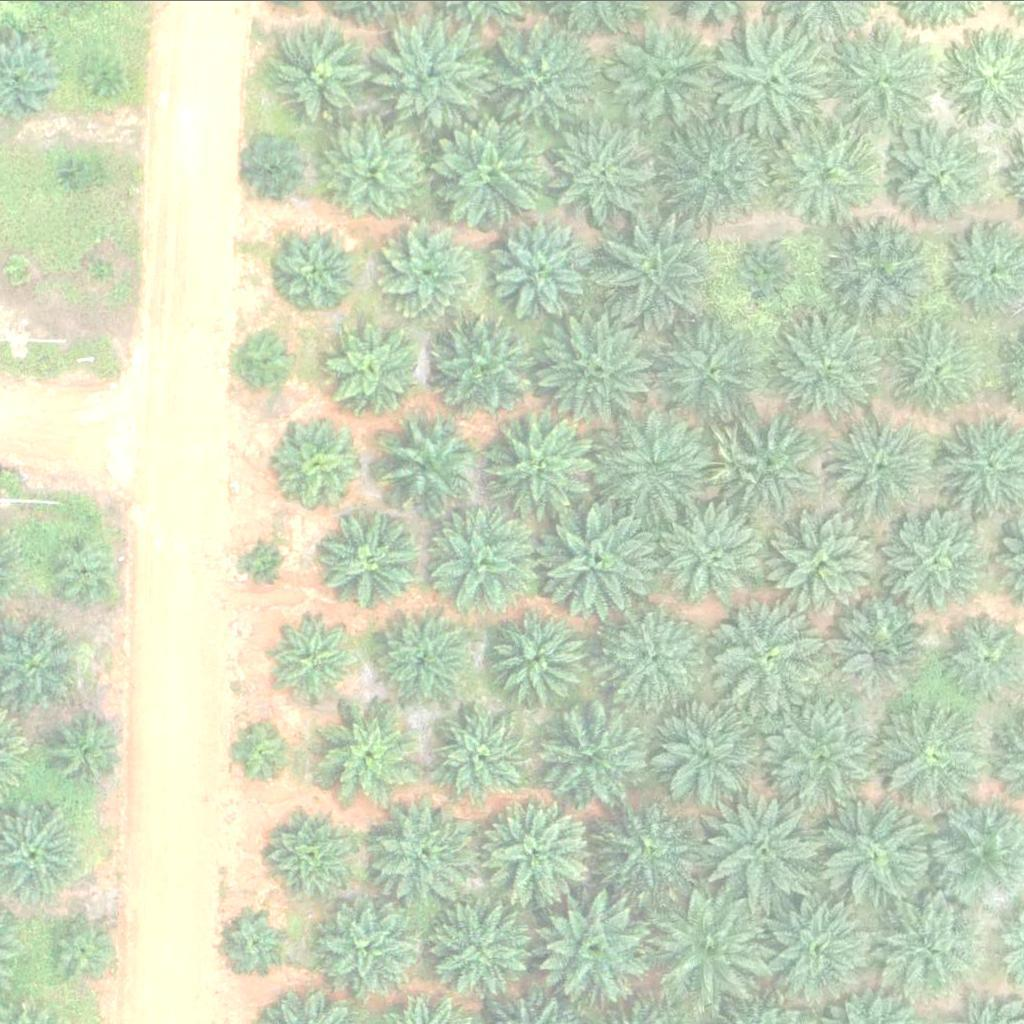Kelapa_Sawit: (534, 882, 660, 1007), (652, 884, 778, 1009), (700, 787, 826, 912), (538, 499, 664, 624), (595, 406, 721, 531), (537, 310, 663, 435), (596, 205, 722, 330), (427, 104, 553, 229), (656, 108, 782, 233), (476, 21, 602, 146), (707, 11, 833, 136), (821, 15, 947, 140), (814, 791, 940, 916), (754, 884, 880, 1009), (477, 786, 602, 911), (708, 596, 833, 721), (757, 689, 882, 814), (870, 689, 995, 814), (486, 408, 600, 521), (427, 308, 541, 421), (822, 209, 936, 322), (654, 316, 767, 429), (771, 311, 884, 424), (376, 19, 489, 132), (608, 18, 721, 131), (771, 112, 885, 224), (421, 503, 534, 615), (657, 500, 770, 612), (706, 410, 819, 522), (488, 209, 601, 321), (545, 118, 658, 230), (885, 313, 998, 425), (819, 408, 932, 520), (315, 897, 416, 997), (427, 897, 528, 997), (372, 802, 473, 902), (599, 794, 700, 894), (319, 700, 420, 800), (434, 705, 535, 805), (548, 704, 649, 804), (652, 700, 753, 800), (371, 608, 472, 708), (487, 606, 588, 706), (603, 609, 704, 709), (775, 512, 876, 612), (381, 225, 482, 325), (322, 121, 423, 221), (270, 21, 371, 121), (889, 508, 990, 608), (826, 600, 927, 700), (878, 891, 979, 991), (316, 508, 416, 608), (374, 413, 474, 513), (892, 128, 992, 228), (271, 615, 359, 703), (326, 322, 414, 410), (275, 223, 363, 311), (268, 804, 356, 891), (280, 417, 368, 504), (46, 530, 122, 605), (52, 712, 127, 787), (46, 908, 121, 983), (742, 237, 805, 300), (245, 136, 308, 199), (225, 908, 288, 970), (226, 722, 289, 784), (238, 327, 301, 389), (83, 54, 121, 92), (246, 540, 284, 577), (6, 259, 31, 284), (90, 256, 115, 281), (58, 163, 83, 188)
